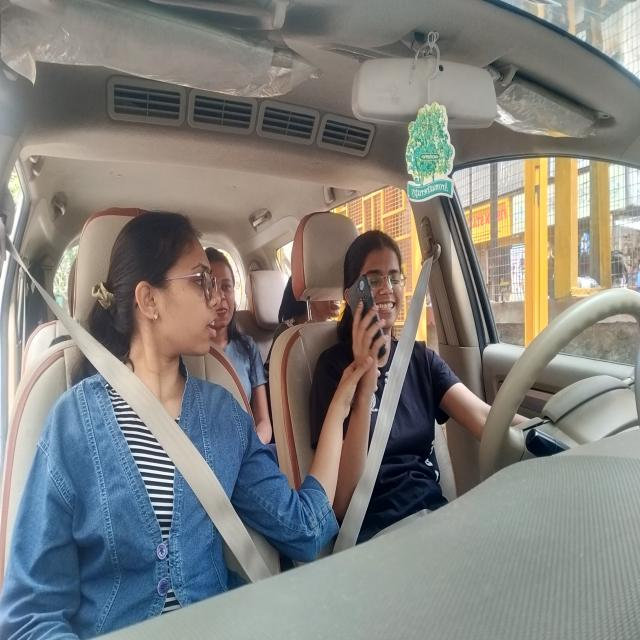mobile: (346, 283, 387, 370)
person: (114, 216, 224, 364), (346, 235, 406, 327), (208, 246, 241, 330), (285, 286, 344, 320)
